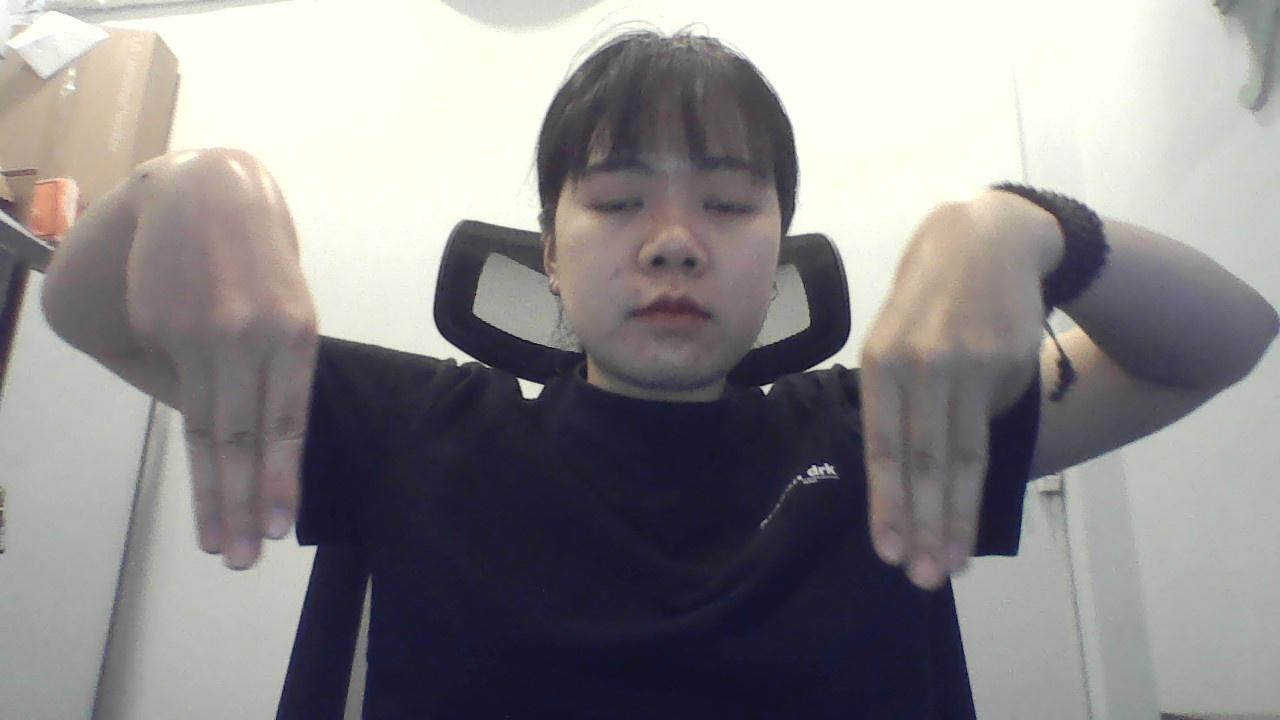M: (129, 131, 312, 566), (856, 185, 1048, 582)
